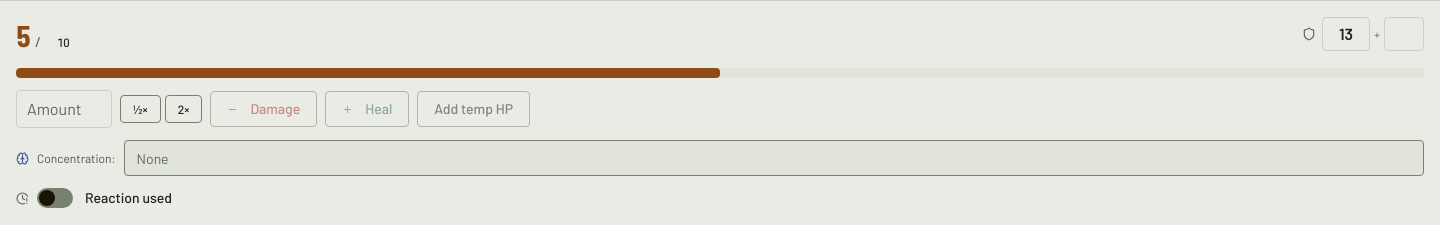
Test: DetailVitals › 2× doubles the amount field only — does not apply damage
The width and height of the screenshot is (1440, 225).
Type "6" into the field with placeholder "Amount" at (64, 109), box x1=16 y1=90 x2=112 y2=128
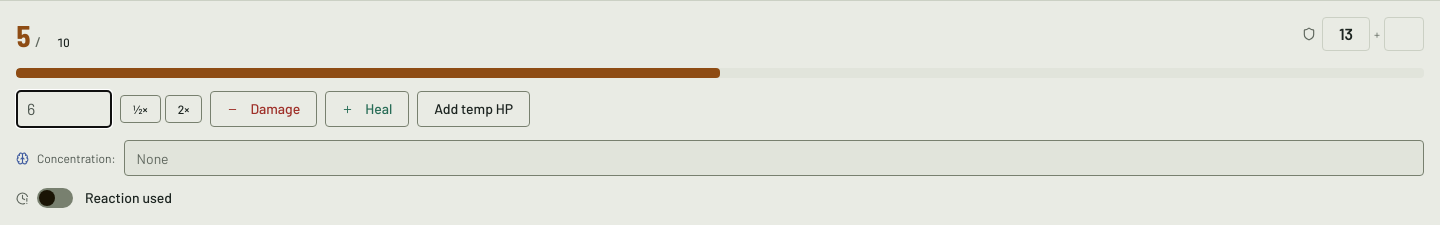
Click the button named "2× Double damage (vulnerability)" at (184, 109), box x1=165 y1=95 x2=202 y2=123
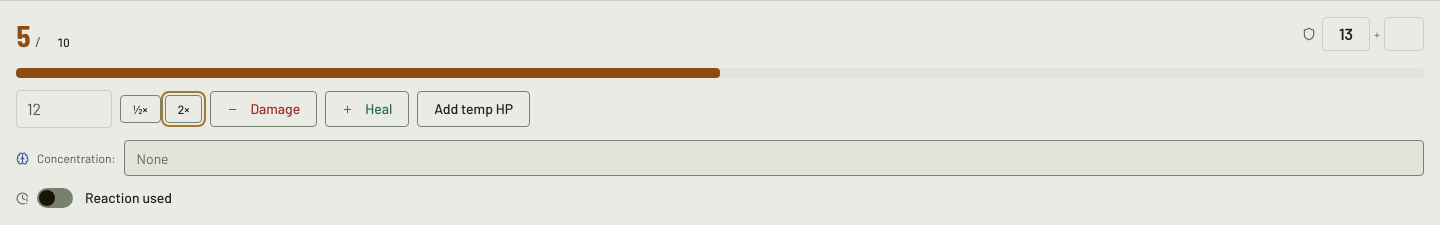
Expected: the field with placeholder "Amount" holds "12", x1=16 y1=90 x2=112 y2=128
